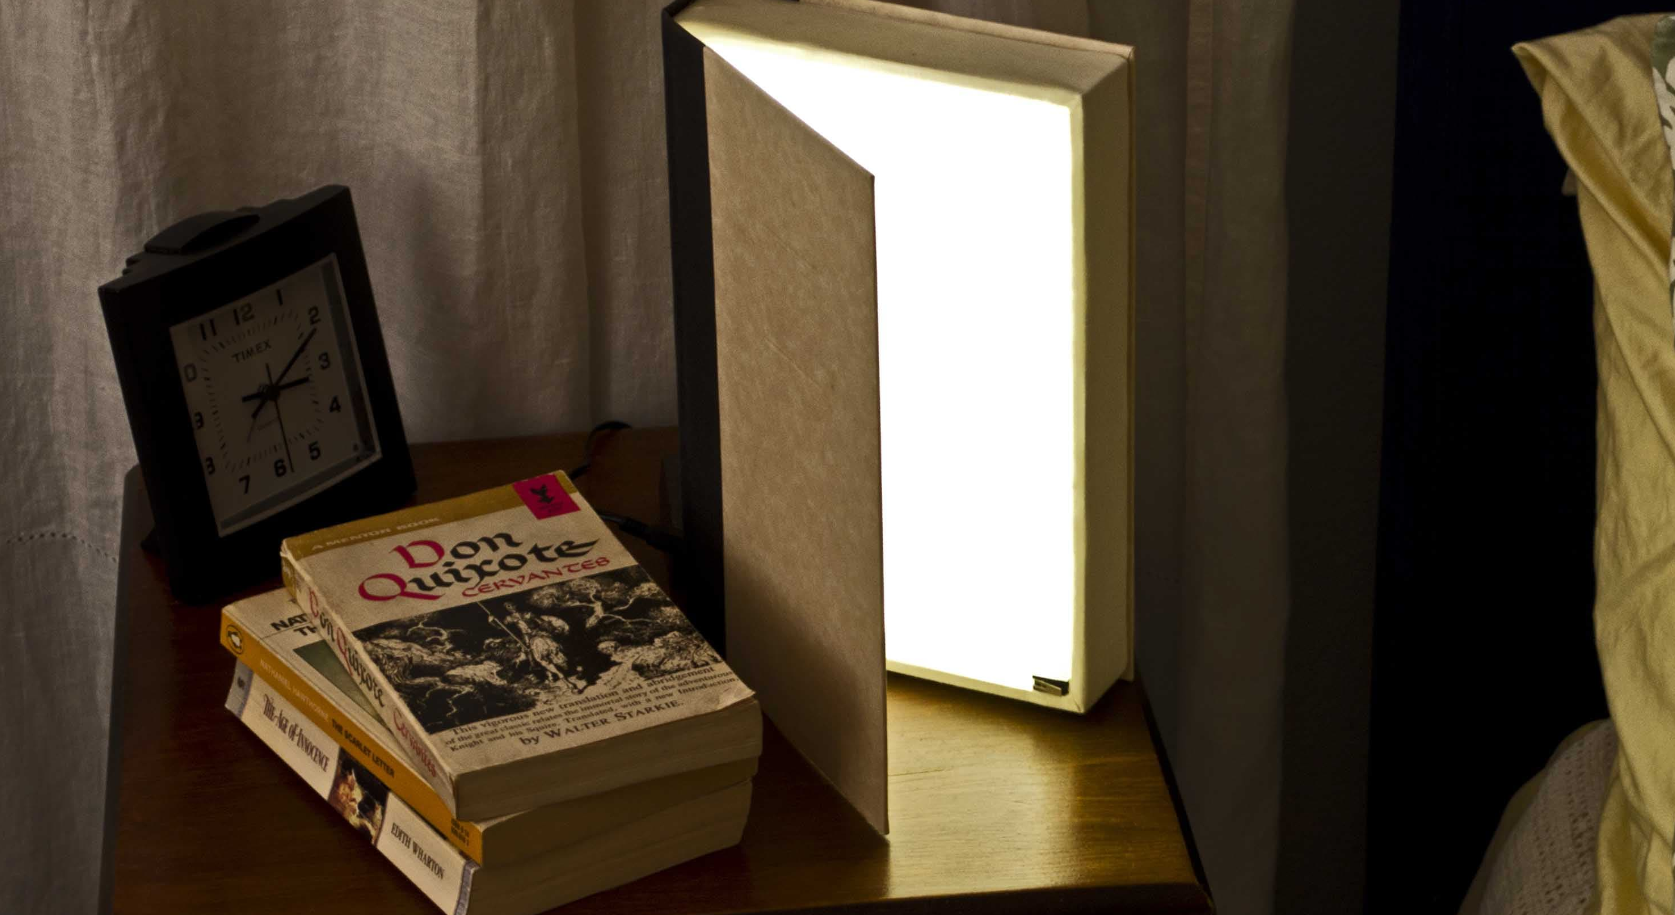book: (280, 472, 787, 892)
